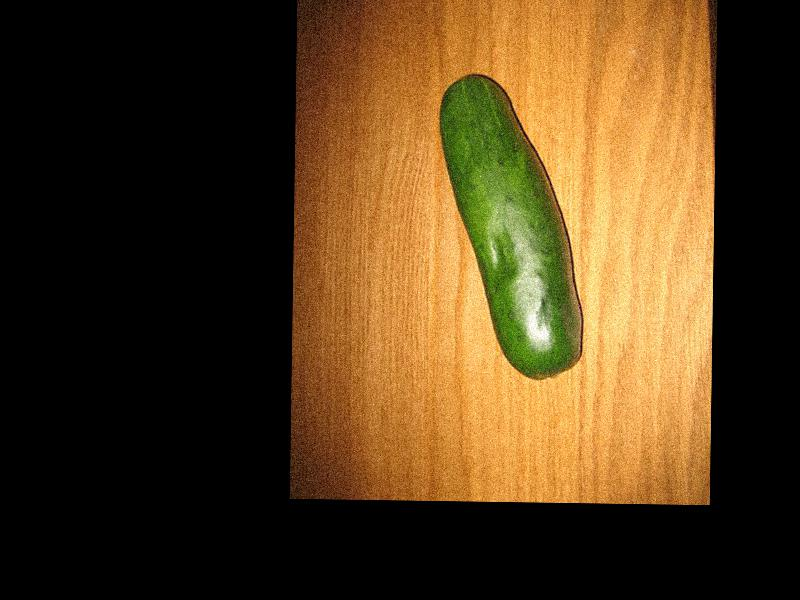Cucumber: (437, 72, 586, 376)
